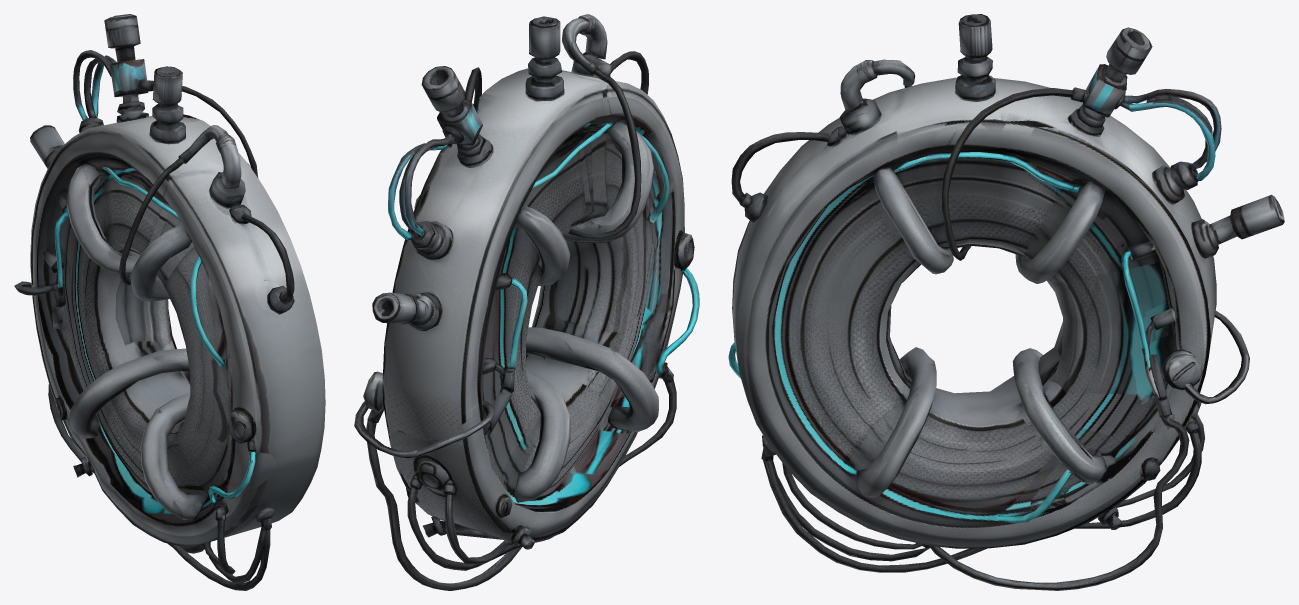
Rendered from phase_modulator_ring.glb.
3 views of the same model, side by side, from view 1: azimuth 30°, elevation 25°; view 2: azimuth 150°, elevation 25°; view 3: azimuth 270°, elevation 25° (orthographic). The views are drawn at different scales.
Visible parts, largest first — view 1: Phase‑modulator ring; view 2: Phase‑modulator ring; view 3: Phase‑modulator ring.
Part boxes in pixels (x1=…): Phase‑modulator ring: x1=14, y1=14, x2=325, y2=590; Phase‑modulator ring: x1=354, y1=14, x2=699, y2=590; Phase‑modulator ring: x1=728, y1=14, x2=1284, y2=590.
Bounding box in the file's own units: 0.0555 × 0.1789 × 0.1623.
1 material, 1 textured.
